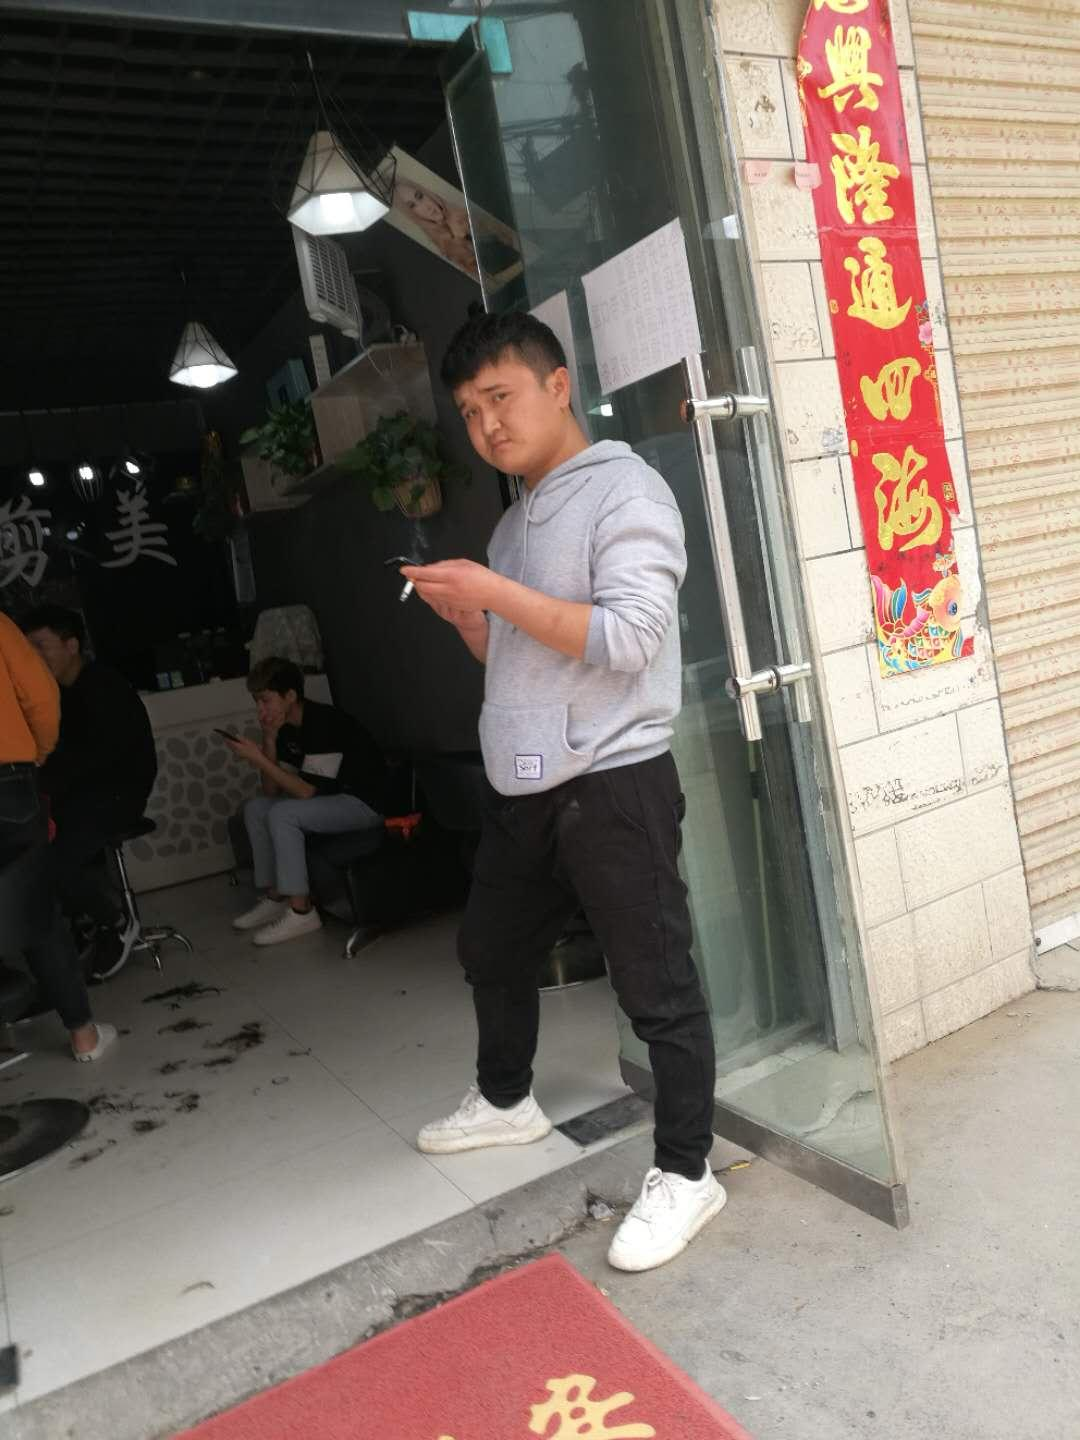Cigarette: (406, 313, 727, 1269), (400, 581, 415, 603)
